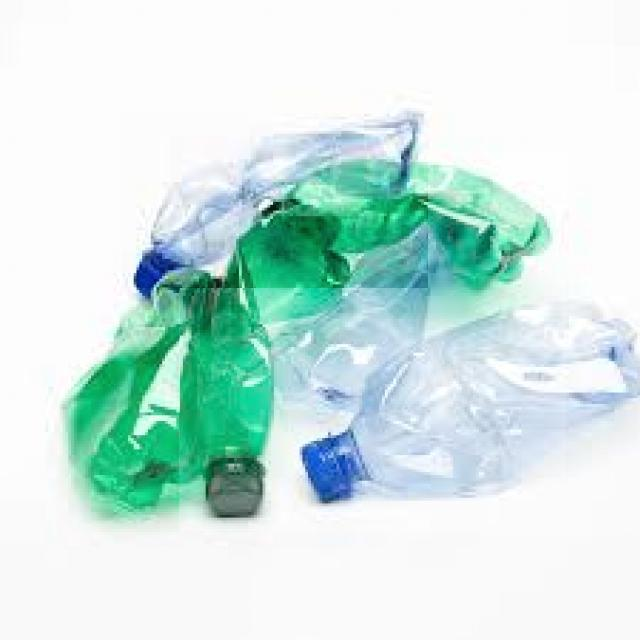BIODEGRADABLE: (180, 151, 568, 531), (303, 296, 640, 534), (122, 113, 428, 288)
